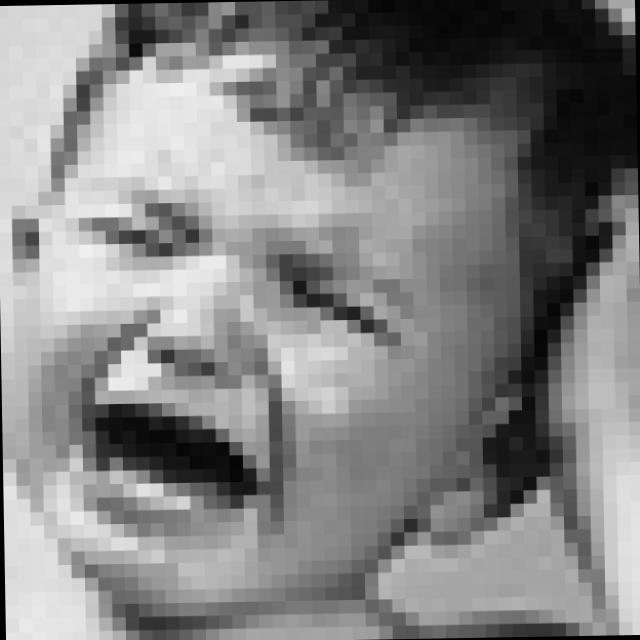sad: (51, 163, 428, 560)
